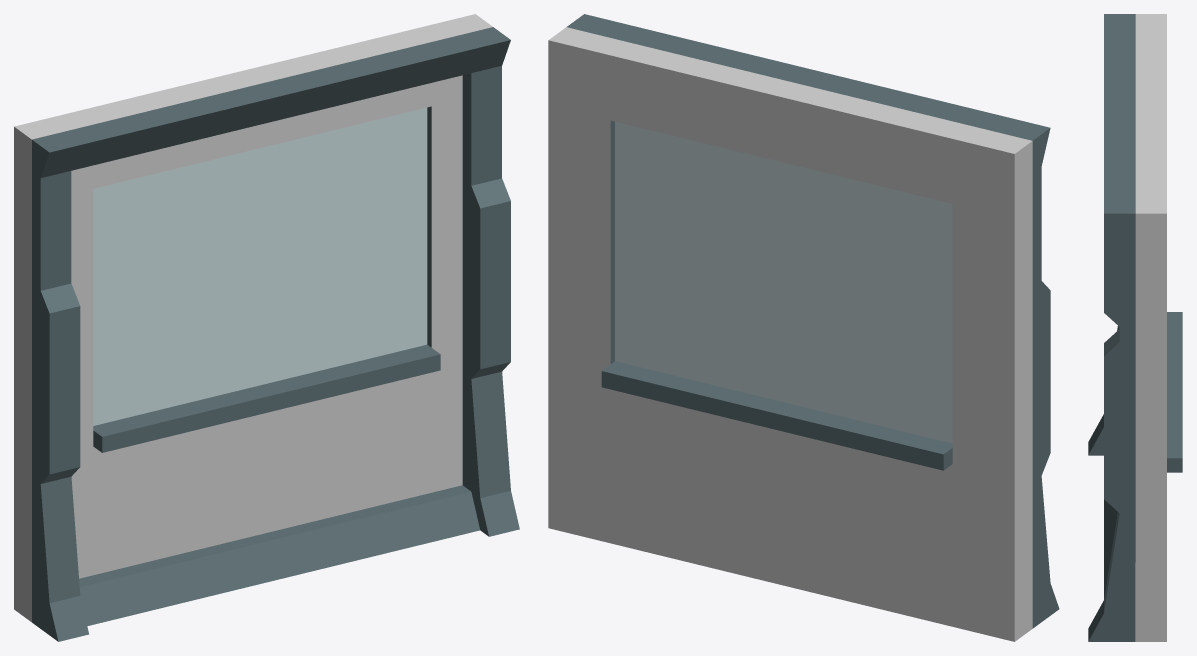
Rendered from scifi_wall_1sided_window_rect.fbx.
3 views of the same model, side by side, from view 1: azimuth 30°, elevation 25°; view 2: azimuth 150°, elevation 25°; view 3: azimuth 270°, elevation 25° (orthographic). The views are drawn at different scales.
Parts seen in each view (by area): view 1: Cube.034; view 2: Cube.034; view 3: Cube.034.
Boxes of the visible parts, box(x1,y1,x2,y2) form: Cube.034: box(14, 14, 519, 641); Cube.034: box(548, 14, 1059, 641); Cube.034: box(1088, 14, 1182, 641).
Size of the model in its own units: 3 by 3 by 0.6.
